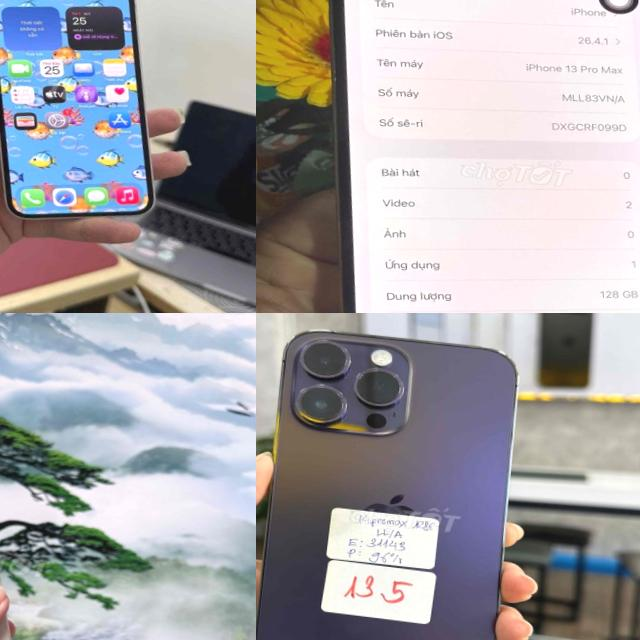gen_12_13: (276, 0, 640, 313), (0, 0, 177, 232)
gen_14: (256, 317, 548, 640), (0, 460, 63, 640)
